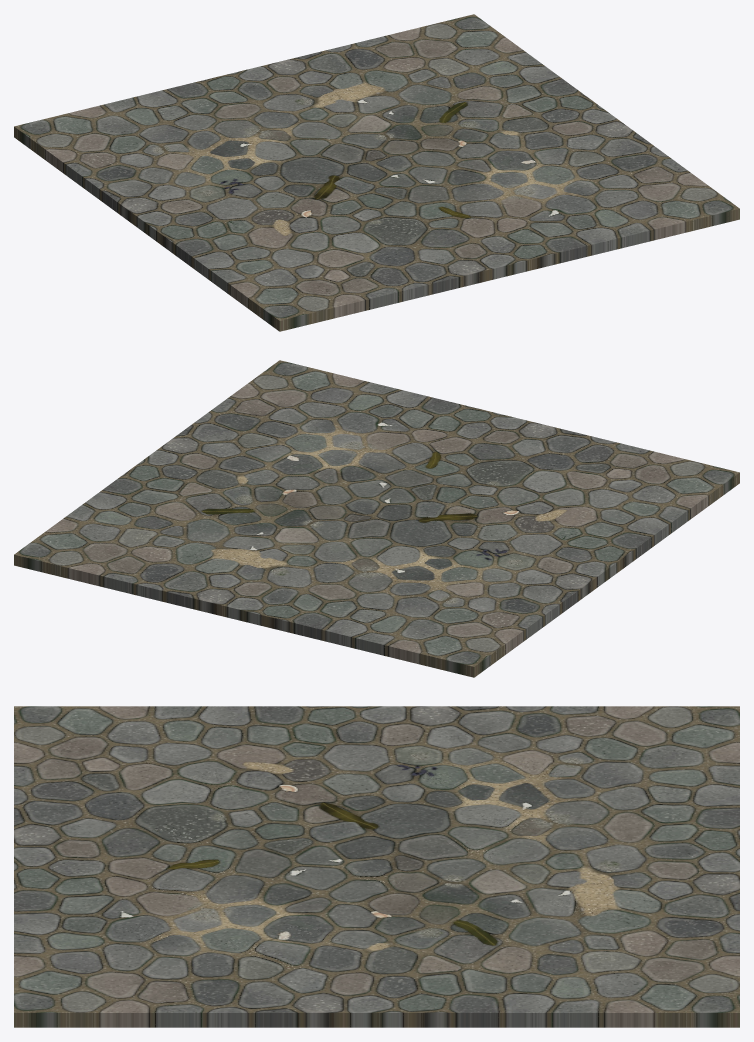
File: drowned_floor_a.glb
3 views of the same model, one above another, from view 1: azimuth 30°, elevation 25°; view 2: azimuth 150°, elevation 25°; view 3: azimuth 270°, elevation 25° (orthographic). The views are drawn at different scales.
Parts seen in each view (by area): view 1: drowned_floor_a; view 2: drowned_floor_a; view 3: drowned_floor_a.
Boxes of the visible parts, left/top/right/bottom form: drowned_floor_a: left=14, top=14, right=739, bottom=331; drowned_floor_a: left=14, top=360, right=739, bottom=677; drowned_floor_a: left=14, top=706, right=739, bottom=1027.
Size of the model in its own units: 4 by 0.1226 by 4.
Materials: 1 (1 with a texture image).
